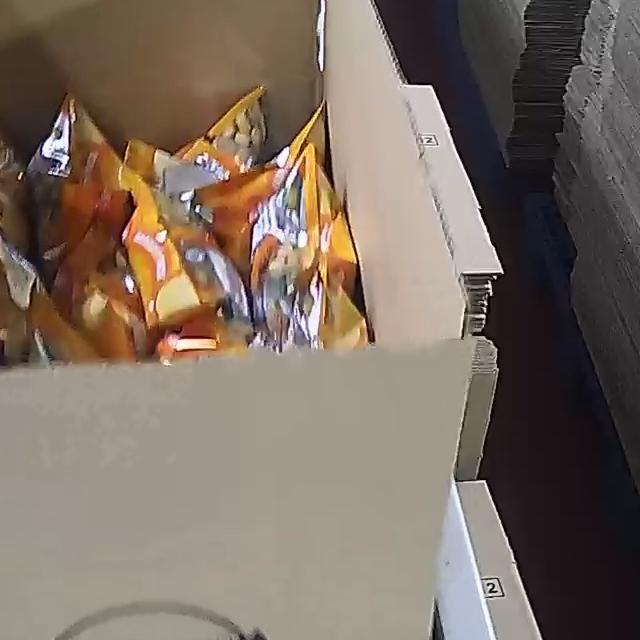cheese: (0, 80, 370, 369)
